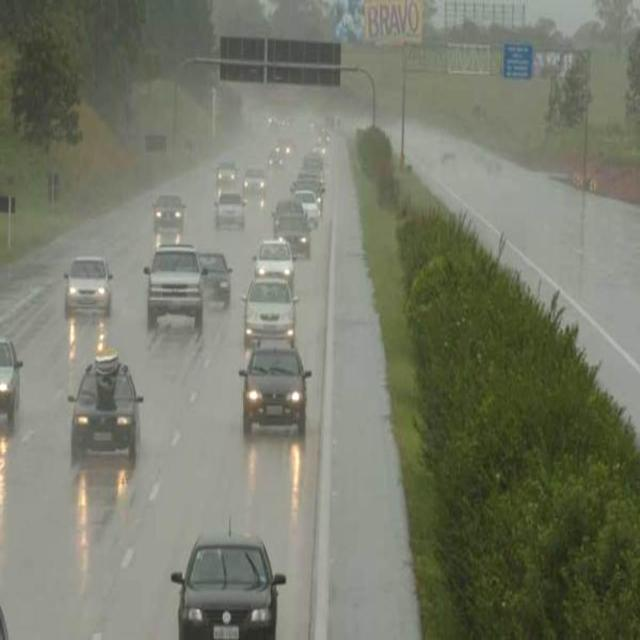Car: (164, 529, 290, 640), (67, 353, 142, 460), (238, 343, 312, 437), (144, 242, 207, 329), (241, 277, 298, 350), (64, 255, 114, 318), (252, 238, 295, 290), (272, 202, 312, 257), (195, 251, 234, 307), (0, 337, 23, 425), (153, 194, 187, 238), (290, 188, 320, 230), (215, 190, 246, 228), (296, 172, 325, 204), (242, 167, 267, 200), (215, 162, 239, 195), (269, 140, 293, 168), (300, 154, 324, 182)
